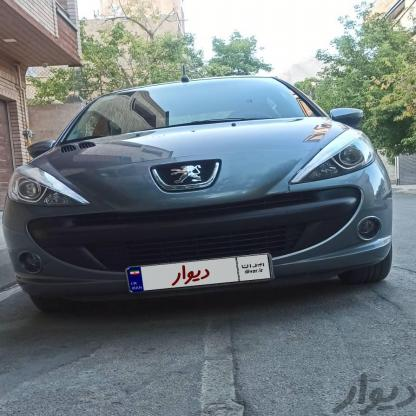Car: (0, 81, 411, 325)
